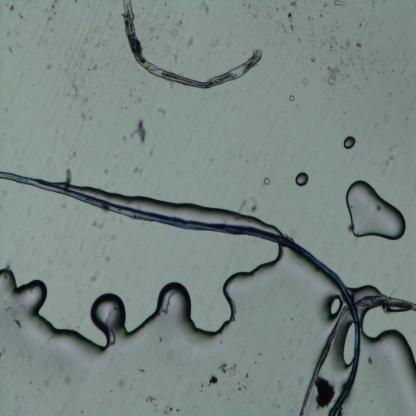Air bubble: (0, 242, 281, 358), (88, 183, 279, 233), (346, 178, 406, 240), (361, 308, 416, 372), (342, 321, 356, 368), (327, 294, 343, 317), (296, 173, 309, 187), (344, 135, 356, 150)
Background material: (56, 36, 114, 78), (324, 33, 352, 60), (314, 375, 336, 409), (380, 146, 396, 178), (130, 118, 147, 146), (86, 211, 109, 231), (70, 79, 88, 104), (324, 65, 342, 88), (182, 29, 198, 54), (63, 139, 78, 165), (43, 2, 58, 23), (236, 373, 250, 395), (171, 16, 183, 41), (242, 196, 258, 212), (219, 362, 237, 376), (131, 162, 146, 176), (144, 394, 157, 407), (286, 0, 300, 11), (88, 267, 99, 280), (287, 12, 294, 31), (208, 375, 220, 386), (156, 106, 166, 119), (300, 75, 310, 87), (64, 171, 70, 190), (80, 112, 88, 123), (8, 1, 15, 13), (44, 63, 54, 70), (264, 177, 272, 185), (355, 41, 363, 49), (334, 0, 342, 7)
Cellulose filter fibre: (121, 0, 264, 93), (300, 309, 348, 414), (354, 294, 416, 309)
Cotton: (0, 173, 360, 415)
